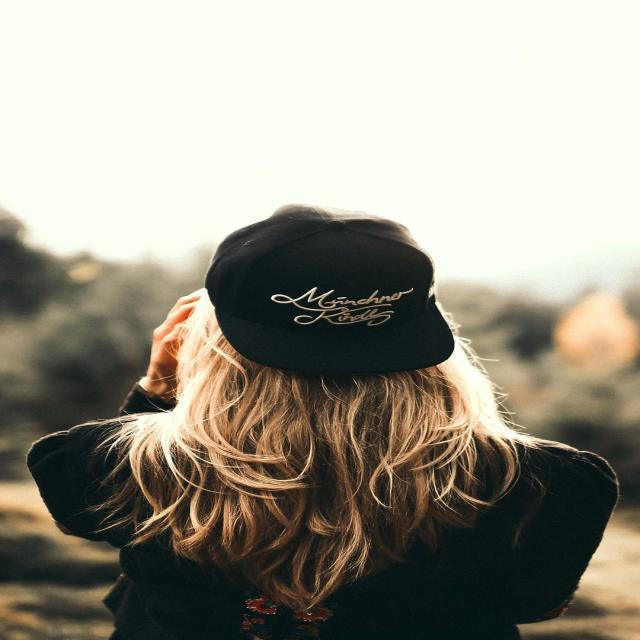cap: (173, 193, 537, 402)
